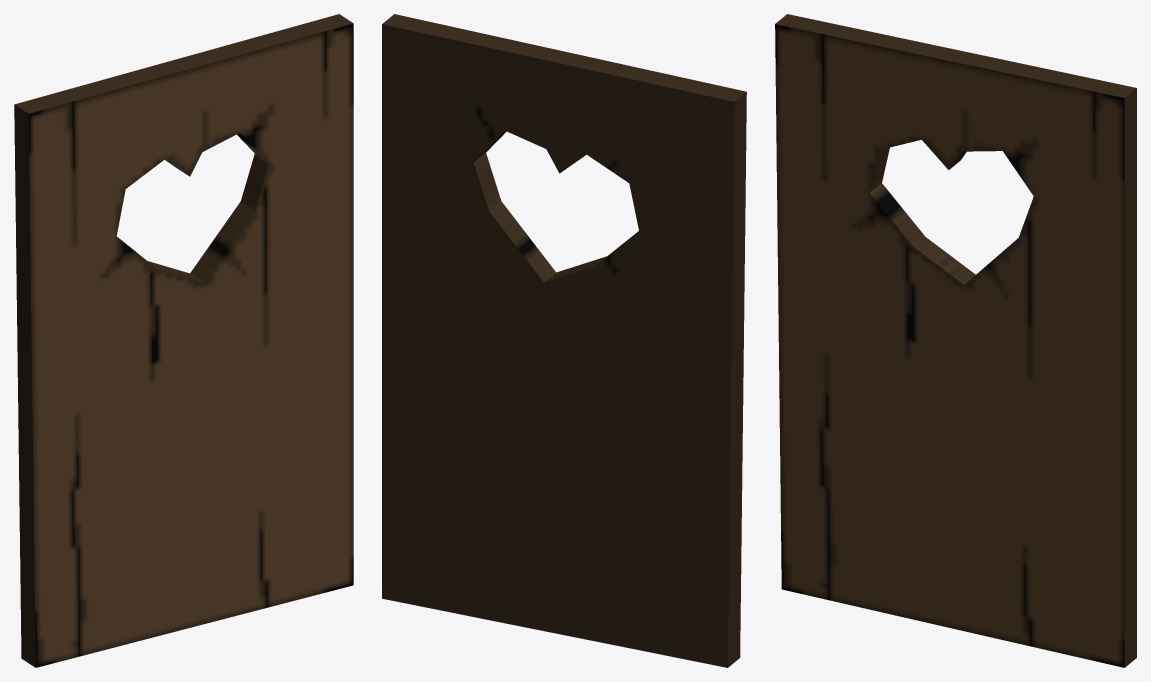
The model's file is OuthouseDOOR.obj.
The picture shows the model from 3 angles, left to right: view 1: azimuth 30°, elevation 25°; view 2: azimuth 150°, elevation 25°; view 3: azimuth 330°, elevation 25°; orthographic projection. The views are drawn at different scales.
Visible parts, largest first — view 1: Door; view 2: Door; view 3: Door.
Boxes of the visible parts, x1,y1,x2,y2 form: Door: (14,14,353,667); Door: (382,14,746,667); Door: (775,14,1136,667).
Size of the model in its own units: 1.85 by 2.96 by 0.2229.
Materials: 1 (1 with a texture image).
